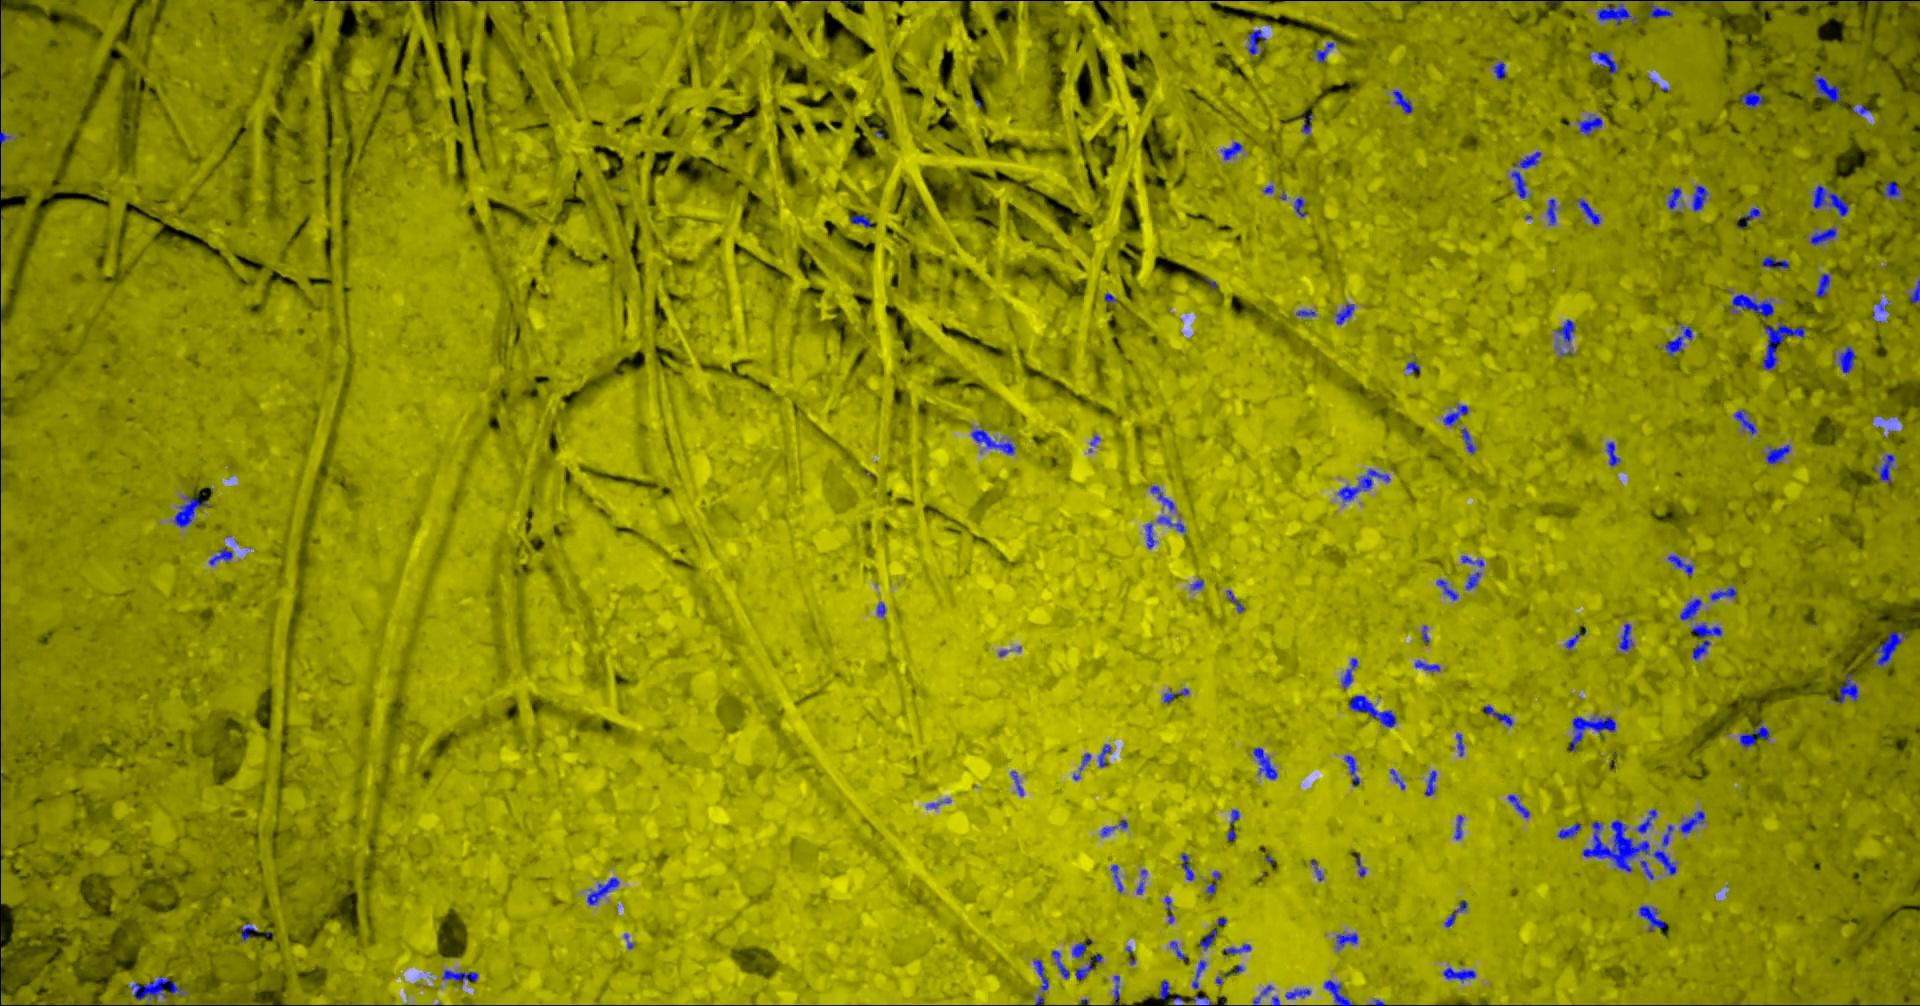ant: (1761, 321, 1804, 370), (1337, 467, 1389, 500), (1570, 716, 1615, 749), (1349, 695, 1396, 727), (1510, 151, 1540, 198), (127, 976, 185, 1000), (1872, 631, 1906, 666), (173, 495, 210, 527), (1812, 184, 1849, 215), (1690, 622, 1721, 659), (970, 429, 1015, 453), (1730, 293, 1774, 316), (1596, 3, 1637, 25), (585, 876, 618, 904), (1811, 74, 1841, 102), (1663, 325, 1691, 356), (1252, 747, 1277, 779), (1738, 720, 1769, 746), (1076, 953, 1102, 981), (1323, 979, 1352, 1005), (1638, 904, 1665, 931), (1835, 673, 1858, 702), (1444, 899, 1467, 927), (1873, 453, 1895, 483), (1483, 704, 1512, 725), (1150, 485, 1175, 511), (1677, 810, 1704, 833), (1592, 51, 1618, 72), (1443, 404, 1468, 426), (1667, 554, 1693, 575), (1576, 114, 1603, 135), (1341, 657, 1357, 688), (1578, 199, 1600, 224), (1735, 409, 1755, 434), (1636, 808, 1656, 833), (1810, 226, 1836, 245), (1443, 967, 1476, 982), (1837, 345, 1855, 373), (1051, 950, 1069, 978), (1679, 598, 1702, 620), (1507, 794, 1529, 817), (1392, 89, 1412, 113), (1247, 29, 1266, 55), (1556, 319, 1575, 344), (1765, 445, 1790, 464), (1343, 754, 1359, 786), (1032, 959, 1048, 989), (1156, 514, 1183, 531), (1738, 90, 1763, 109), (1191, 959, 1206, 988), (1313, 42, 1335, 62), (1170, 940, 1189, 963), (208, 547, 232, 565), (1618, 622, 1633, 650), (441, 969, 477, 981), (1436, 579, 1457, 600), (1252, 984, 1272, 1005), (1225, 589, 1243, 612), (1101, 819, 1128, 835), (1556, 822, 1580, 838), (1760, 255, 1788, 269), (1647, 3, 1672, 18), (1691, 185, 1707, 211), (1227, 809, 1239, 840), (1070, 937, 1091, 956), (1220, 141, 1242, 159), (1335, 932, 1357, 949), (1462, 427, 1476, 453), (1162, 688, 1189, 702), (1335, 304, 1352, 324), (1199, 929, 1217, 949), (1710, 586, 1736, 600), (1010, 770, 1023, 795), (1110, 864, 1123, 892), (1815, 273, 1830, 296), (1180, 854, 1192, 880), (848, 213, 872, 227), (1564, 631, 1585, 648), (1423, 770, 1436, 795), (1667, 185, 1681, 208), (1206, 871, 1220, 894), (1222, 942, 1250, 954), (1882, 180, 1898, 199), (1606, 441, 1619, 465), (1097, 743, 1110, 767), (1743, 206, 1759, 224), (1465, 572, 1481, 589), (241, 922, 257, 940), (1639, 860, 1653, 879), (1293, 196, 1305, 216), (1545, 198, 1556, 224), (1909, 278, 1919, 304), (1285, 988, 1310, 998), (1164, 895, 1173, 923), (1462, 555, 1483, 567), (1145, 523, 1156, 547), (1415, 661, 1439, 671), (1137, 869, 1145, 894), (1158, 981, 1170, 998), (1493, 62, 1505, 79), (1112, 976, 1119, 1005), (1454, 815, 1462, 840), (1404, 361, 1418, 373), (1302, 114, 1310, 133), (1455, 733, 1463, 754), (1295, 309, 1316, 316), (1854, 0, 1919, 1)
